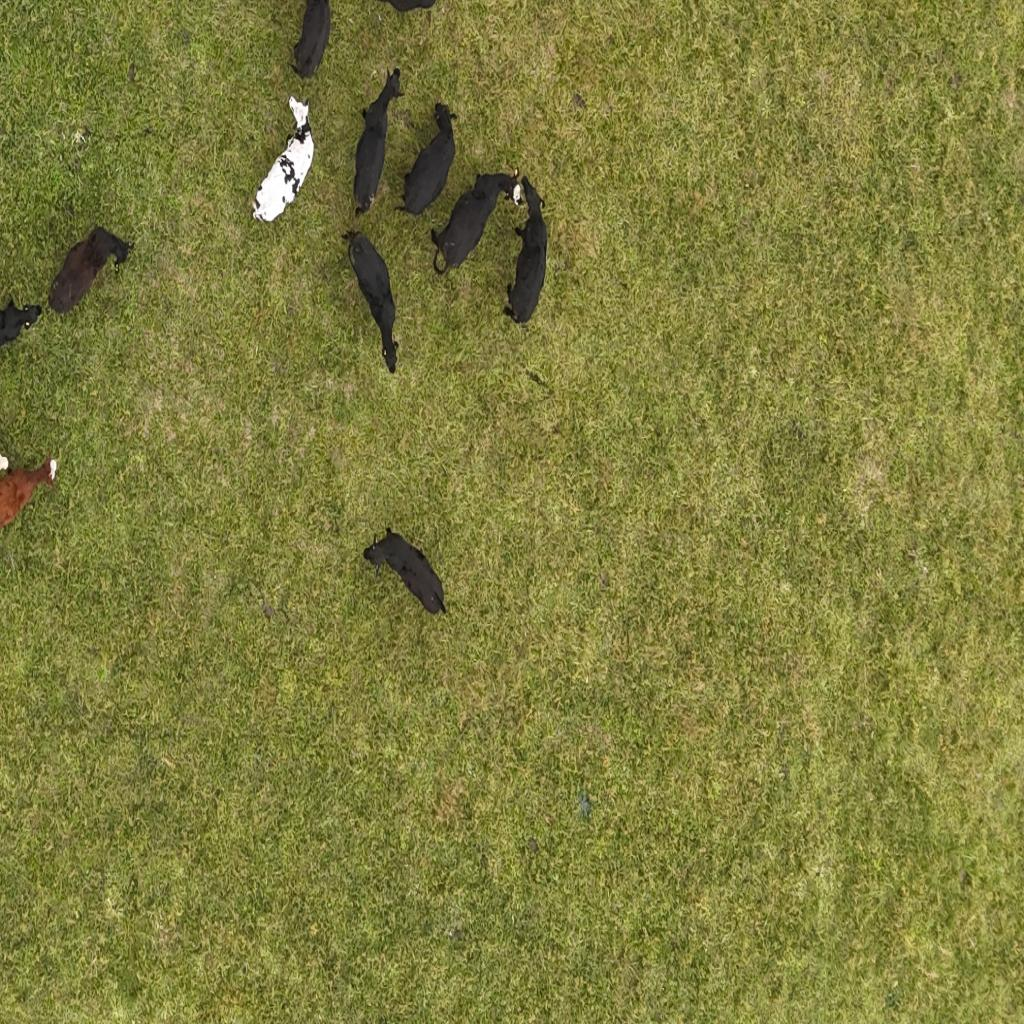cow: (430, 170, 518, 280), (350, 64, 407, 222), (361, 525, 453, 622), (251, 94, 317, 228), (47, 226, 138, 319), (343, 226, 400, 373), (399, 97, 460, 222), (504, 175, 548, 325), (0, 451, 59, 537), (290, 0, 330, 80), (0, 297, 44, 352)
